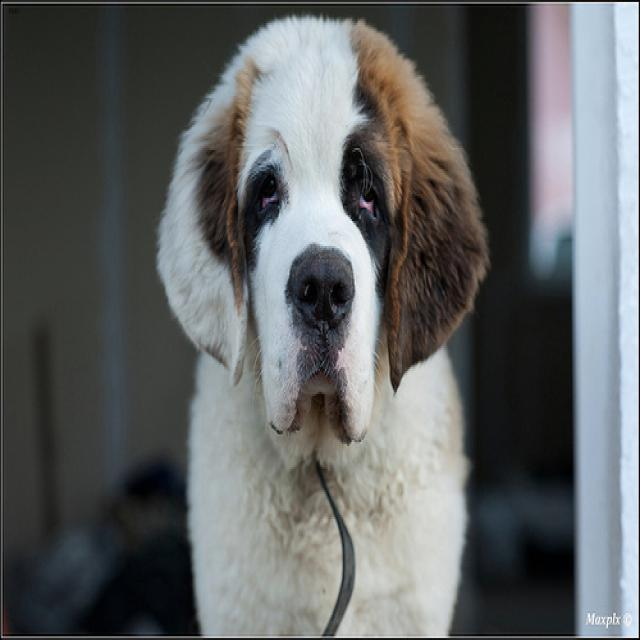dog-saint_bernard: (148, 8, 498, 636)
